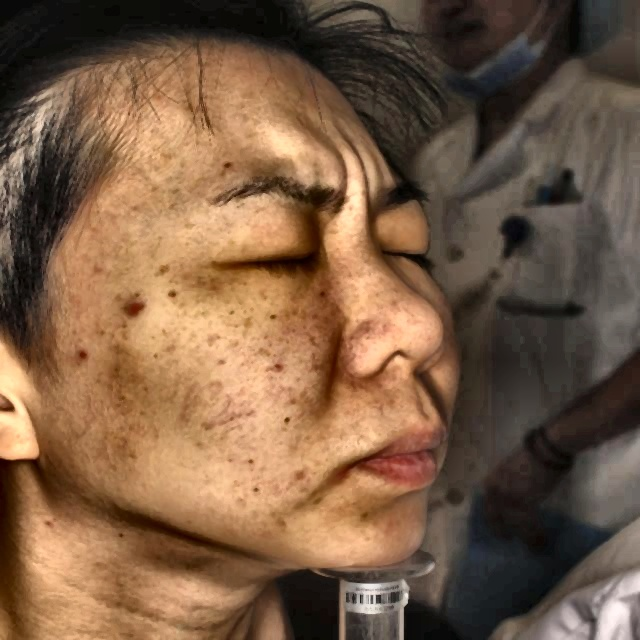comedone: (123, 298, 144, 323)
